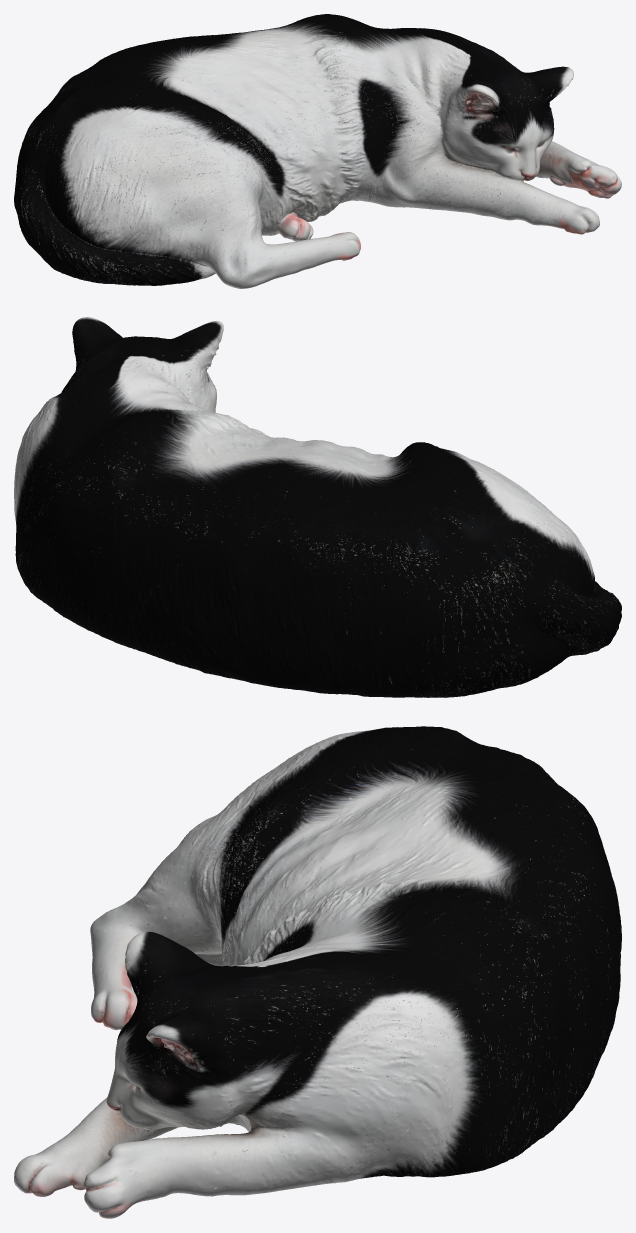
File: cat.glb
3 views of the same model, one above another, from view 1: azimuth 30°, elevation 25°; view 2: azimuth 150°, elevation 25°; view 3: azimuth 270°, elevation 25° (orthographic). The views are drawn at different scales.
Size of the model in its own units: 2 by 0.5191 by 1.37.
1 material, 1 textured.
